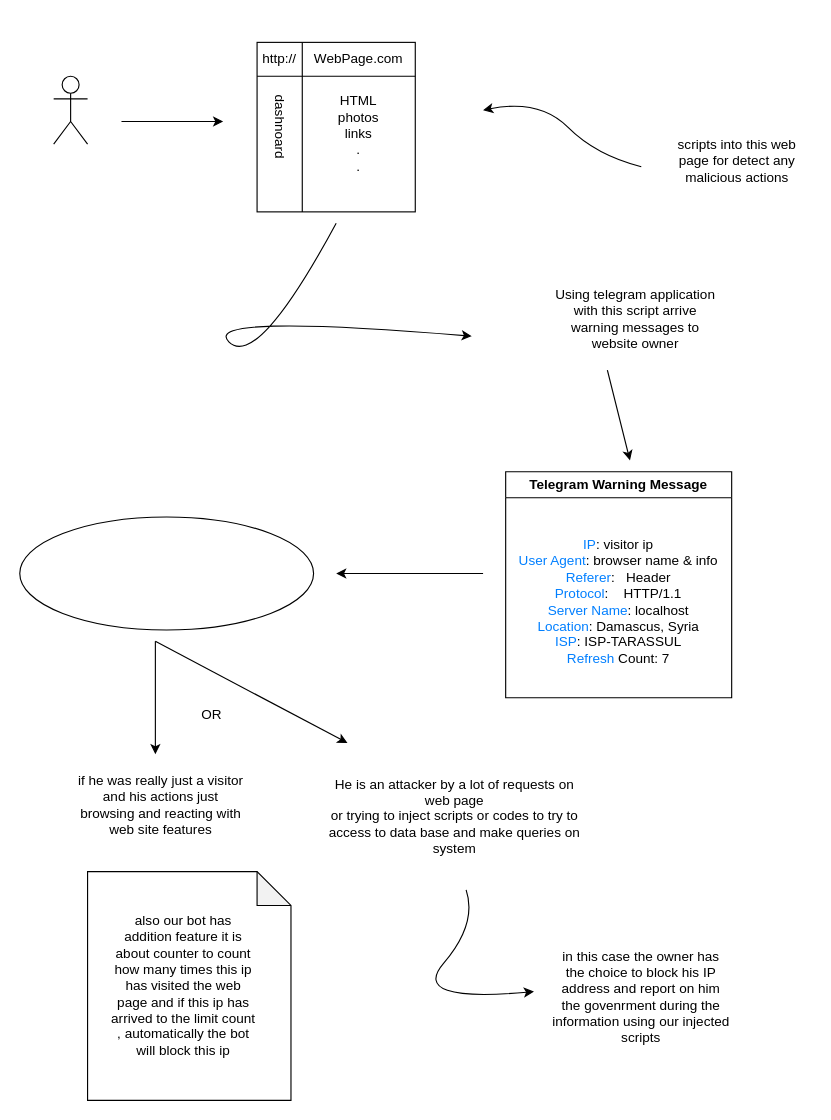
Image size: 831x1120. Some labels were removed from this diagram. The centre of each missing label's shape, as x and y in pixels:
according in this messages the owner decide if he are visitor or Attacker: point (166, 573)
Actor: point (70, 109)
